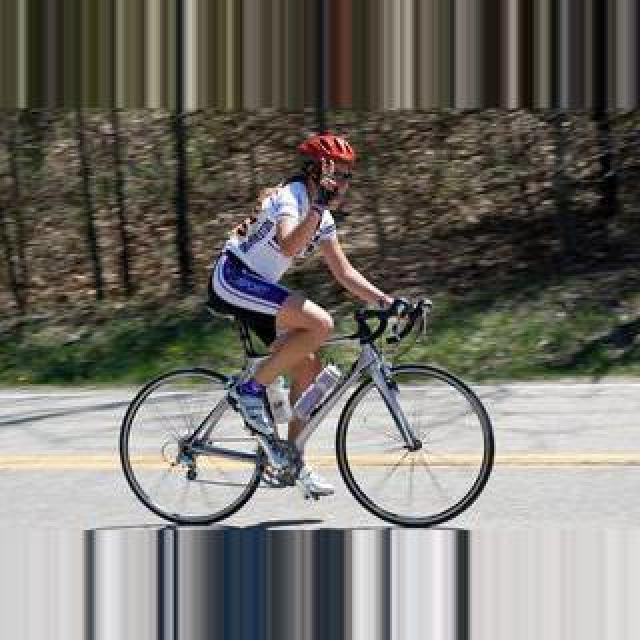MC-Bike: (208, 128, 410, 502)
Person: (119, 292, 495, 524)
